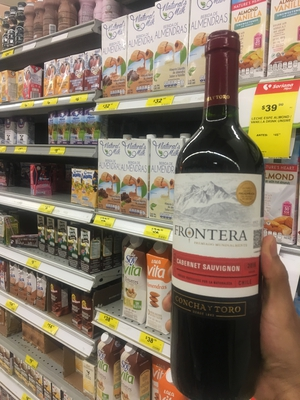frontera cabernet sauvignon: (157, 49, 279, 376)
